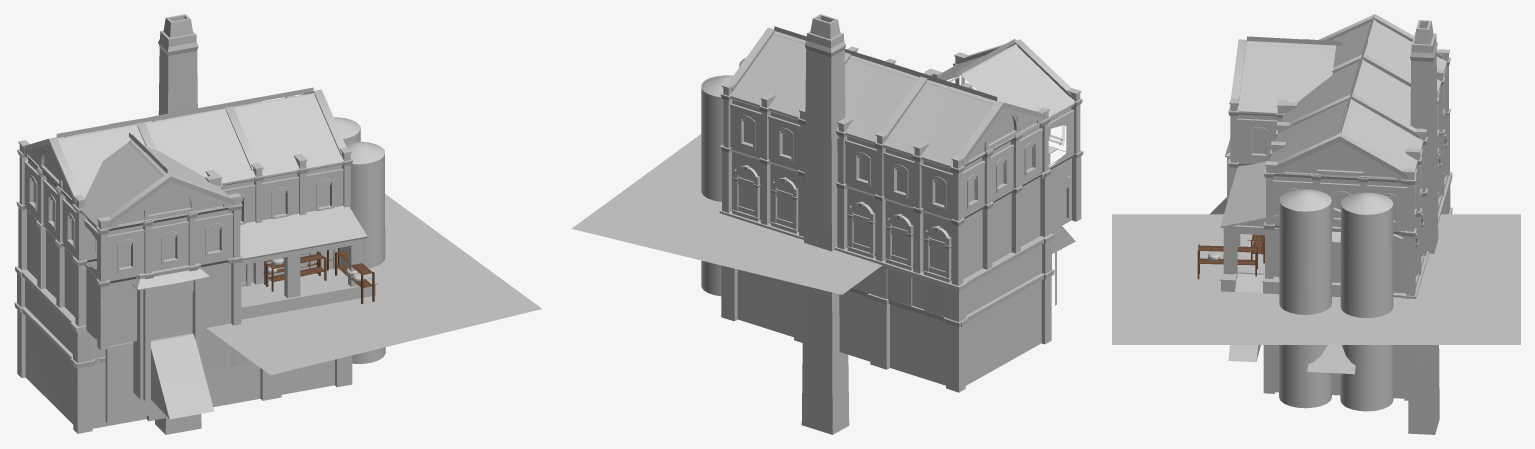
The model's file is dairy-alt.gltf.
3 renders of one model, left to right at view 1: azimuth 30°, elevation 25°; view 2: azimuth 150°, elevation 25°; view 3: azimuth 270°, elevation 25°, orthographic.
Visible parts, largest first — view 1: _lod0, file_b2_ground3.070, file_ground.021, file_b2_ground3.071, file_b2_ground3.067, cheese, file_b2_ground3.066, file_ground.012, file_b2_ground3.074; view 2: _lod0, file_b2_ground3.065, file_b2_ground3.064, file_b2_ground3.063, file_b2_ground3.066; view 3: _lod0, file_b2_ground3.071, file_b2_ground3.065, file_b2_ground3.070, file_b2_ground3.064, file_b2_ground3.067, file_ground.021, file_b2_ground3.063, file_b2_ground3.066, cheese, file_b2_ground3.074, file_ground.012.
Part boxes in pixels (x1=…): _lod0: x1=14, y1=14, x2=385, y2=434; file_b2_ground3.070: x1=394, y1=268, x2=541, y2=332; file_ground.021: x1=215, y1=311, x2=357, y2=375; file_b2_ground3.071: x1=312, y1=295, x2=445, y2=353; file_b2_ground3.067: x1=368, y1=231, x2=486, y2=289; cheese: x1=263, y1=248, x2=374, y2=303; file_b2_ground3.066: x1=385, y1=196, x2=438, y2=248; file_ground.012: x1=206, y1=308, x2=310, y2=337; file_b2_ground3.074: x1=308, y1=269, x2=403, y2=310; _lod0: x1=701, y1=14, x2=1083, y2=434; file_b2_ground3.065: x1=571, y1=188, x2=717, y2=249; file_b2_ground3.064: x1=659, y1=215, x2=799, y2=273; file_b2_ground3.063: x1=746, y1=237, x2=882, y2=294; file_b2_ground3.066: x1=627, y1=151, x2=721, y2=215; _lod0: x1=1210, y1=14, x2=1452, y2=434; file_b2_ground3.071: x1=1112, y1=256, x2=1221, y2=302; file_b2_ground3.065: x1=1411, y1=302, x2=1520, y2=344; file_b2_ground3.070: x1=1112, y1=302, x2=1221, y2=344; file_b2_ground3.064: x1=1411, y1=260, x2=1520, y2=302; file_b2_ground3.067: x1=1211, y1=298, x2=1321, y2=344; file_ground.021: x1=1112, y1=214, x2=1220, y2=260; file_b2_ground3.063: x1=1427, y1=214, x2=1520, y2=260; file_b2_ground3.066: x1=1311, y1=298, x2=1421, y2=344; cheese: x1=1197, y1=234, x2=1264, y2=279; file_b2_ground3.074: x1=1221, y1=264, x2=1279, y2=302; file_ground.012: x1=1211, y1=214, x2=1223, y2=258.
Size of the model in its own units: 4.27 by 4.44 by 4.1.
